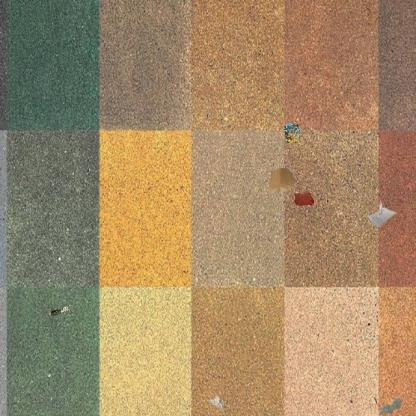dirty: (364, 199, 396, 229), (268, 166, 298, 196), (282, 121, 302, 146), (206, 393, 226, 413), (48, 304, 70, 319)
liquid: (380, 396, 402, 416), (293, 189, 315, 207)
